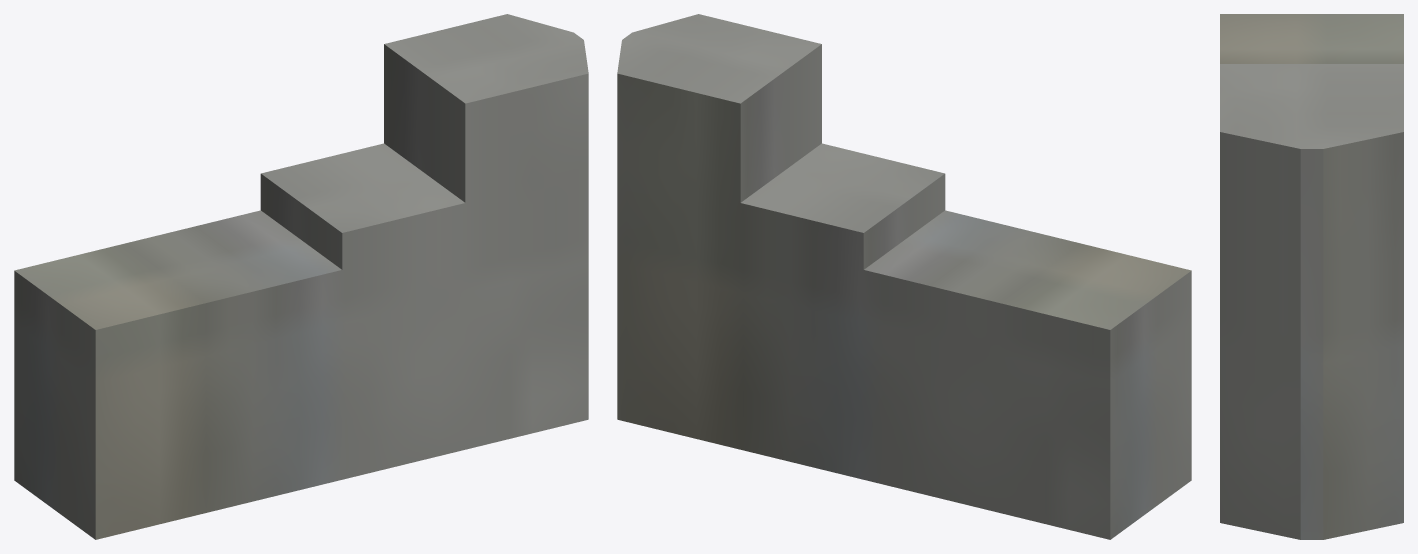
File: Chuck01.fbx
3 renders of one model, left to right at view 1: azimuth 30°, elevation 25°; view 2: azimuth 150°, elevation 25°; view 3: azimuth 270°, elevation 25°, orthographic. The views are drawn at different scales.
Visible parts, largest first — view 1: Model; view 2: Model; view 3: Model.
Boxes of the visible parts, x1,y1,x2,y2 form: Model: (14, 14, 588, 539); Model: (617, 14, 1191, 539); Model: (1220, 14, 1403, 539).
Size of the model in its own units: 87.76 by 55.4 by 23.6.
